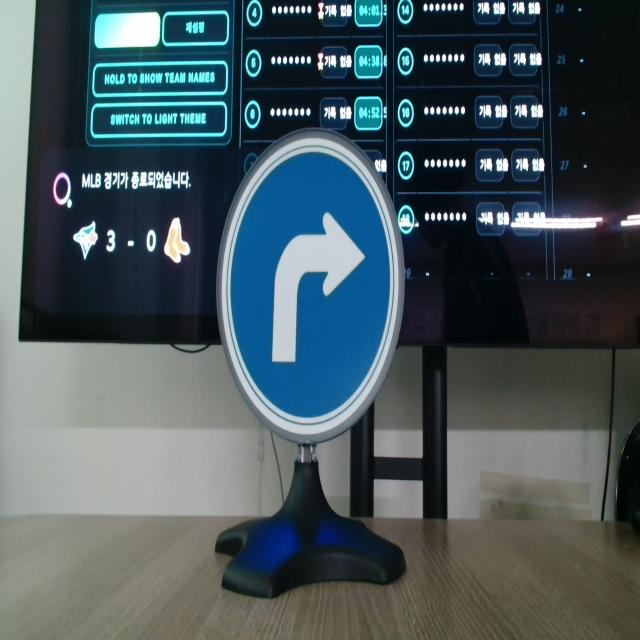right_dierection: (217, 88, 416, 467)
